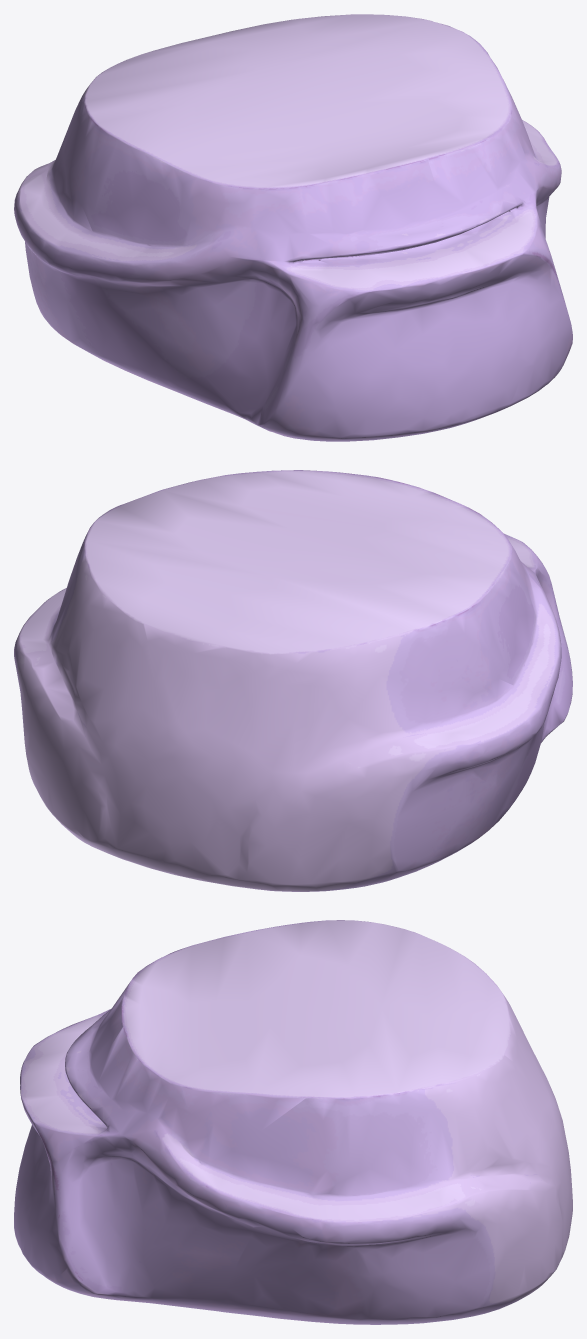
File: rock3.glb
The picture shows the model from 3 angles, top to bottom: view 1: azimuth 30°, elevation 25°; view 2: azimuth 150°, elevation 25°; view 3: azimuth 270°, elevation 25°; orthographic projection.
Parts seen in each view (by area): view 1: Mesh_0; view 2: Mesh_0; view 3: Mesh_0.
Boxes of the visible parts, x1,y1,x2,y2 form: Mesh_0: (14,14,572,441); Mesh_0: (14,470,572,891); Mesh_0: (14,920,572,1324).
Size of the model in its own units: 1.89 by 0.8882 by 1.9.
1 material, 1 textured.
